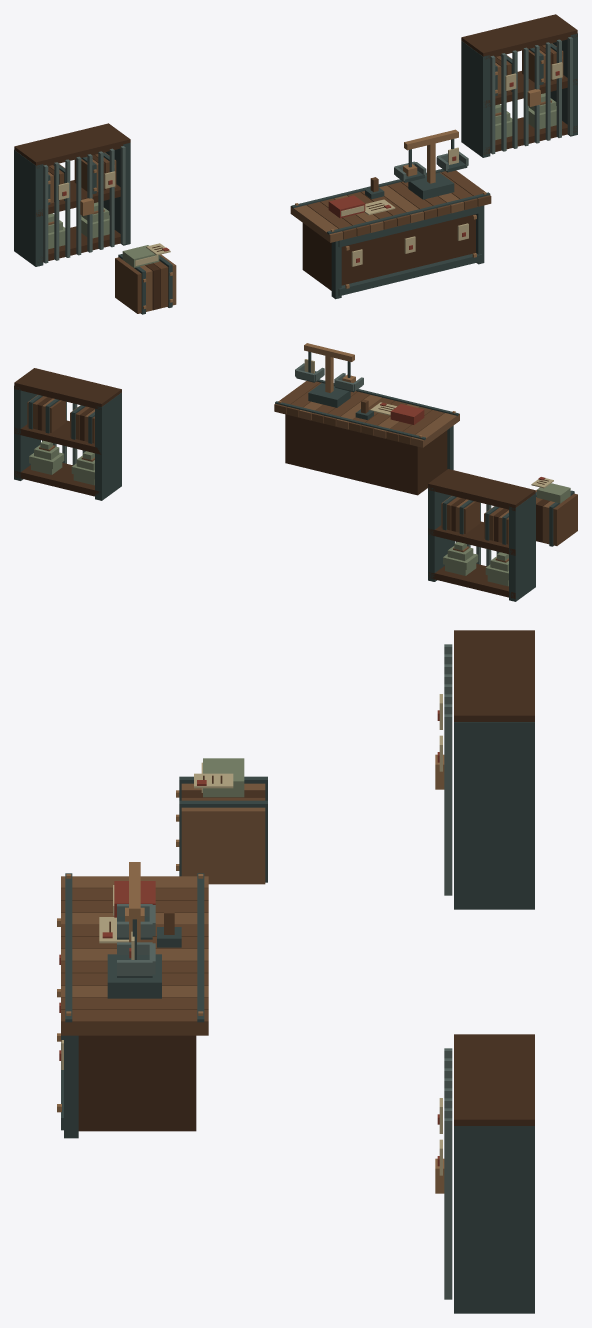
The model's file is B43_pawn.glb.
3 views of the same model, one above another, from view 1: azimuth 30°, elevation 25°; view 2: azimuth 150°, elevation 25°; view 3: azimuth 270°, elevation 25° (orthographic). The views are drawn at different scales.
Visible parts, largest first — view 1: B43_pawn__main_station_CabinetBody_wooddark, B43_pawn__pledges_left_SecureBars_edge, B43_pawn__pledges_right_SecureBars_edge, B43_pawn__pledges_right_SecureShelf_wooddark, B43_pawn__pledges_left_SecureShelf_wooddark, B43_pawn__pledges_left_SecurePost_iron, B43_pawn__pledges_right_SecurePost_iron, B43_pawn__main_station_CabinetEdge_iron, B43_pawn__main_station_TableTop_wood, B43_pawn__main_station_TableTop_woodlight, B43_pawn__contract_archive_CratePlanks_wood, B43_pawn__main_station_TableBands_iron (+13 smaller); view 2: B43_pawn__main_station_CabinetBody_wooddark, B43_pawn__pledges_left_SecureShelf_wooddark, B43_pawn__pledges_right_SecureShelf_wooddark, B43_pawn__pledges_right_SecurePost_iron, B43_pawn__pledges_left_SecurePost_iron, B43_pawn__main_station_TableTop_wood, B43_pawn__main_station_TableTop_woodlight, B43_pawn__pledges_left_CanvasBag_cloth, B43_pawn__pledges_right_CanvasBag_cloth, B43_pawn__contract_archive_CratePlanks_wood, B43_pawn__main_station_TableBands_iron, B43_pawn__pledges_left_CratePlanks_wood (+13 smaller); view 3: B43_pawn__pledges_left_SecurePost_iron, B43_pawn__pledges_right_SecurePost_iron, B43_pawn__main_station_CabinetBody_wooddark, B43_pawn__main_station_TableTop_wood, B43_pawn__pledges_left_SecureShelf_wooddark, B43_pawn__pledges_right_SecureShelf_wooddark, B43_pawn__contract_archive_CratePlanks_woodlight, B43_pawn__main_station_TableTop_woodlight, B43_pawn__main_station_TableBands_iron, B43_pawn__pledges_left_SecureBars_edge, B43_pawn__pledges_right_SecureBars_edge, B43_pawn__main_station_TrayRim_edge (+4 smaller).
Part boxes in pixels (x1,y1,x2,y2): B43_pawn__main_station_CabinetBody_wooddark: (302,214,475,290); B43_pawn__pledges_left_SecureBars_edge: (43,146,125,263); B43_pawn__pledges_right_SecureBars_edge: (490,37,572,154); B43_pawn__pledges_right_SecureShelf_wooddark: (461,14,577,154); B43_pawn__pledges_left_SecureShelf_wooddark: (14,123,130,262); B43_pawn__pledges_left_SecurePost_iron: (14,142,130,266); B43_pawn__pledges_right_SecurePost_iron: (461,33,577,157); B43_pawn__main_station_CabinetEdge_iron: (331,205,484,299); B43_pawn__main_station_TableTop_wood: (307,170,491,239); B43_pawn__main_station_TableTop_woodlight: (290,175,464,242); B43_pawn__contract_archive_CratePlanks_wood: (115,257,168,313); B43_pawn__main_station_TableBands_iron: (291,169,490,234); B43_pawn__main_station_CabinetBody_wooddark: (285,414,447,495); B43_pawn__pledges_left_SecureShelf_wooddark: (428,469,535,598); B43_pawn__pledges_right_SecureShelf_wooddark: (14,368,121,496); B43_pawn__pledges_right_SecurePost_iron: (14,386,121,500); B43_pawn__pledges_left_SecurePost_iron: (428,487,535,601); B43_pawn__main_station_TableTop_wood: (274,381,444,444); B43_pawn__main_station_TableTop_woodlight: (299,394,459,447); B43_pawn__pledges_left_CanvasBag_cloth: (443,542,508,586); B43_pawn__pledges_right_CanvasBag_cloth: (29,440,94,485); B43_pawn__contract_archive_CratePlanks_wood: (536,493,577,545); B43_pawn__main_station_TableBands_iron: (275,379,458,440); B43_pawn__pledges_left_CratePlanks_wood: (446,497,508,544); B43_pawn__pledges_left_SecurePost_iron: (454,722,534,909); B43_pawn__pledges_right_SecurePost_iron: (454,1126,534,1313); B43_pawn__main_station_CabinetBody_wooddark: (78,1035,196,1131); B43_pawn__main_station_TableTop_wood: (61,888,208,1035); B43_pawn__pledges_left_SecureShelf_wooddark: (454,630,534,721); B43_pawn__pledges_right_SecureShelf_wooddark: (454,1034,534,1125); B43_pawn__contract_archive_CratePlanks_woodlight: (181,783,265,884); B43_pawn__main_station_TableTop_woodlight: (61,876,208,997); B43_pawn__main_station_TableBands_iron: (65,873,204,1022); B43_pawn__pledges_left_SecureBars_edge: (444,644,452,895); B43_pawn__pledges_right_SecureBars_edge: (444,1048,452,1299); B43_pawn__main_station_TrayRim_edge: (117,904,155,975).
Size of the model in its own units: 11.76 by 2.49 by 4.85.
